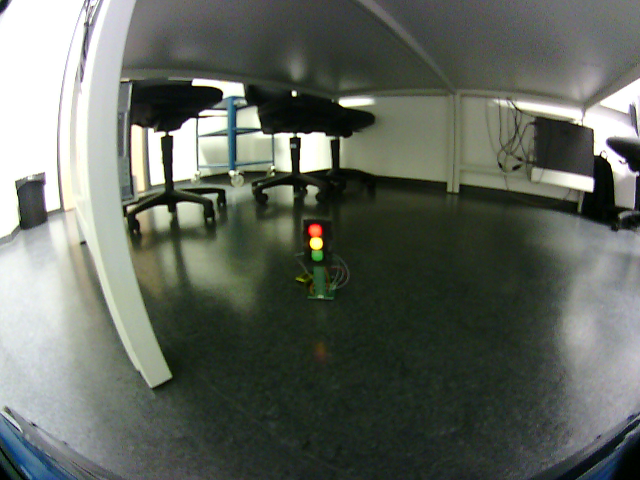red yellow trafficlight: (305, 220, 327, 263)
